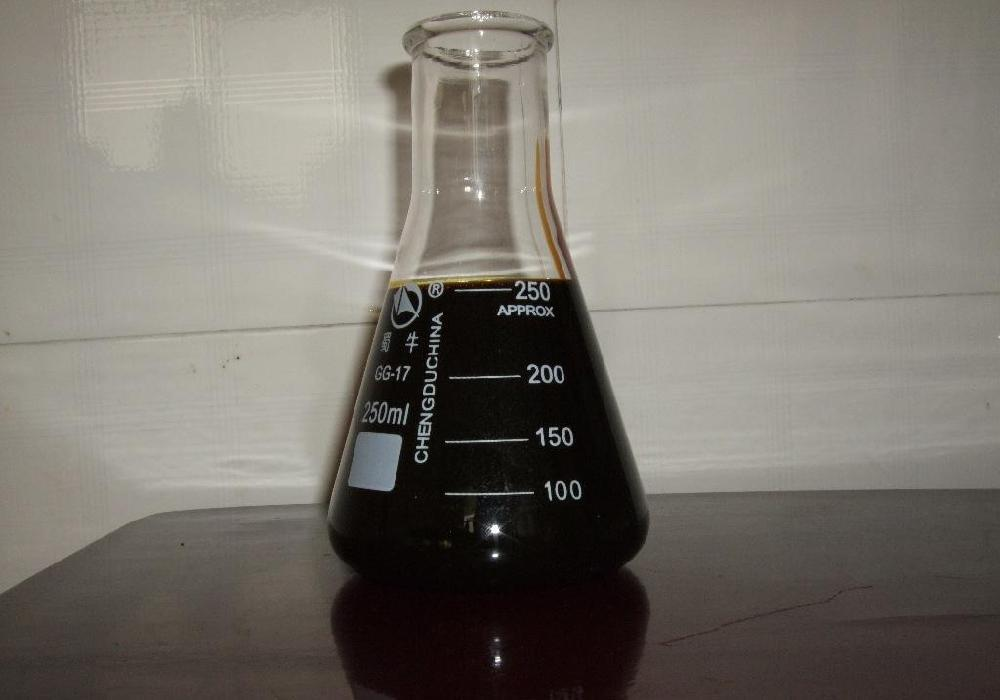Titrarion: (291, 25, 661, 579)
